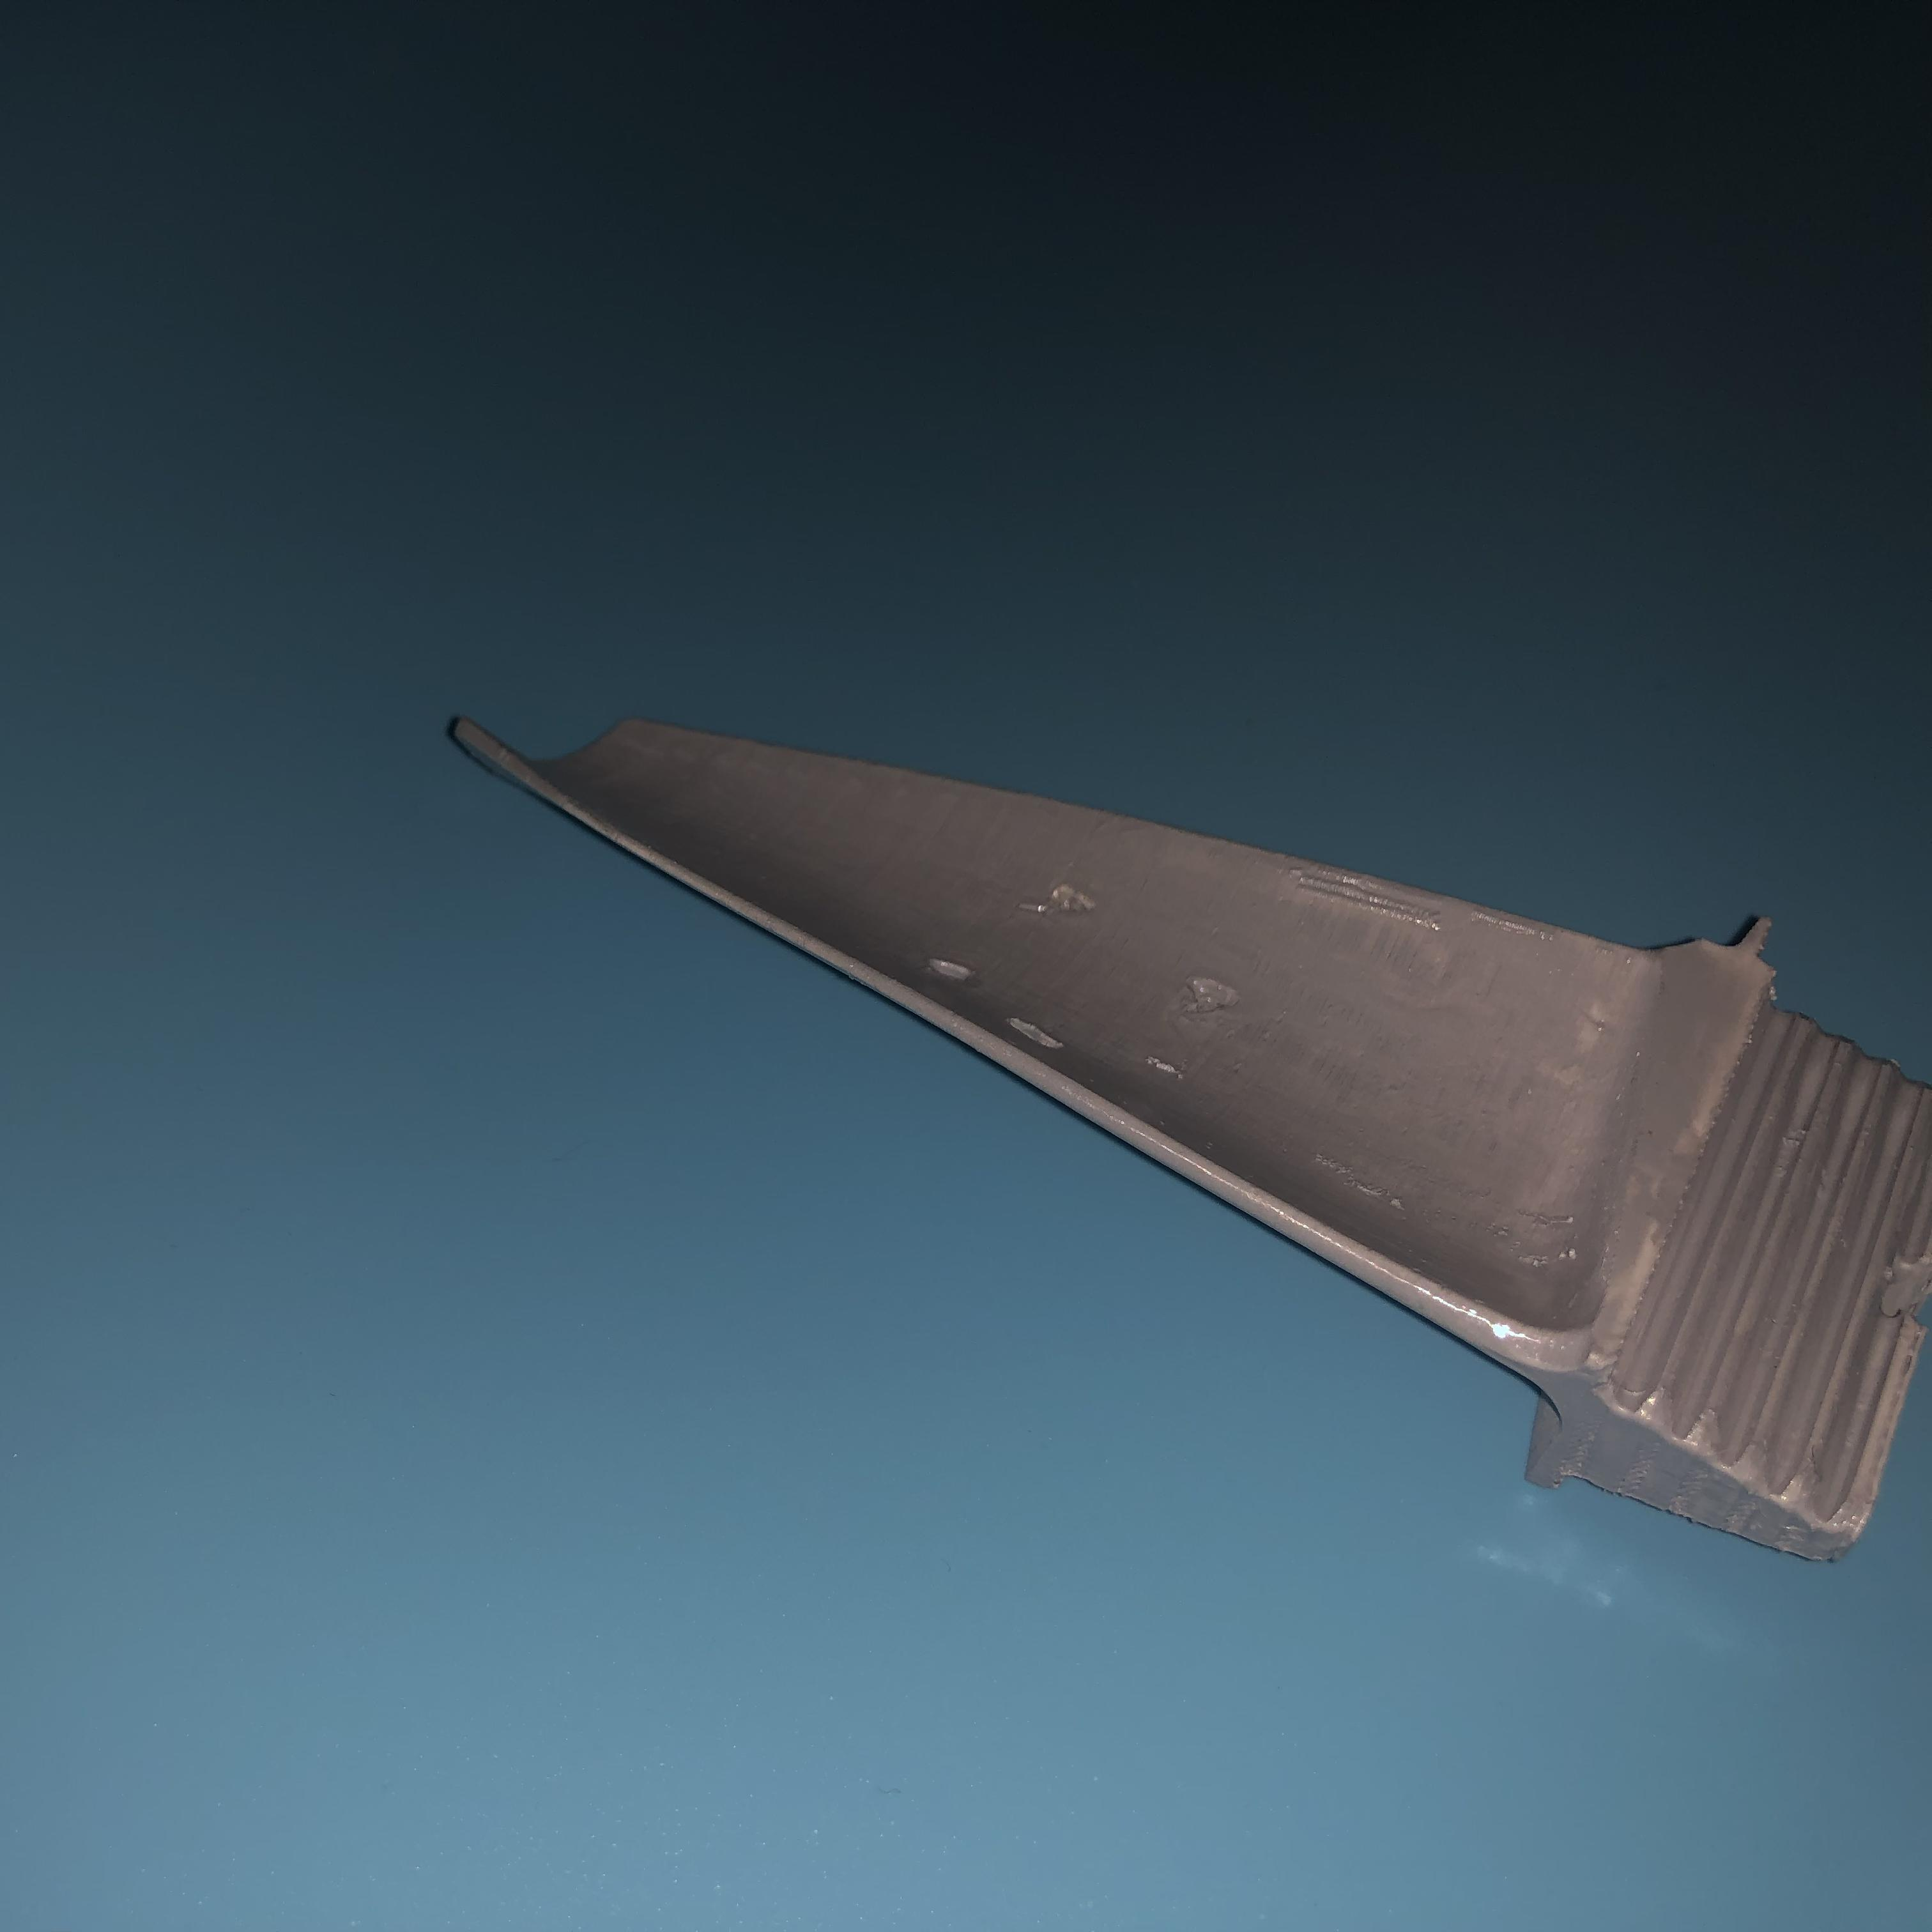breakdown: (922, 945, 1086, 1074), (1019, 876, 1115, 925), (1180, 971, 1251, 1033)
